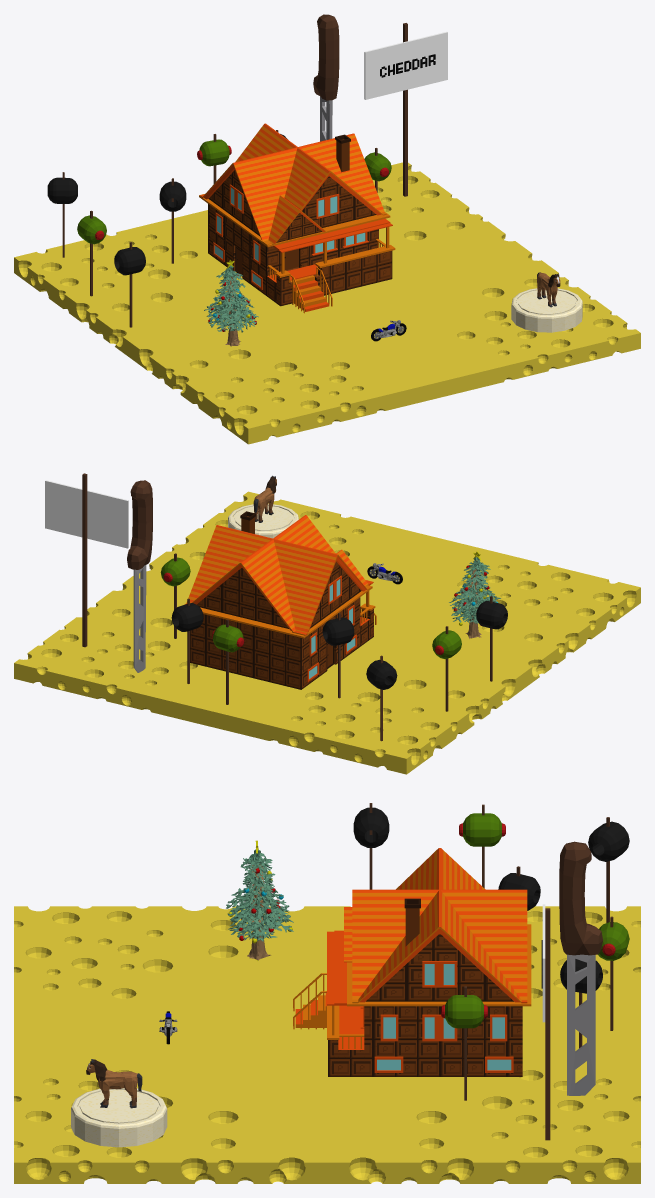
3 views of the same model, one above another, from view 1: azimuth 30°, elevation 25°; view 2: azimuth 150°, elevation 25°; view 3: azimuth 270°, elevation 25° (orthographic). The views are drawn at different scales.
Parts seen in each view (by area): view 1: Cube.022, Cube, Cube.023, Cylinder.016, Cube.024, OBJRANDOM_CHRISTMAS_TREE, Sphere.017, Sphere.016, Sphere.020, Sphere.018, Sphere.022, Sphere.019 (+1 smaller); view 2: Cube.022, Cube, Cube.023, Cube.024, OBJRANDOM_CHRISTMAS_TREE, Cylinder.016, Sphere.017, Sphere.020, Sphere.021, Sphere.016, Sphere.018, Sphere.022 (+3 smaller); view 3: Cube.022, Cube, Cube.024, Cylinder.016, OBJRANDOM_CHRISTMAS_TREE, Cube.023, Sphere.019, Sphere.016, Sphere.018, Sphere.017, ANIMAL_CABALLO, Sphere.022 (+2 smaller).
Part boxes in pixels (x1=…): Cube.022: x1=14, y1=162, x2=640, y2=444; Cube: x1=199, y1=123, x2=395, y2=313; Cube.023: x1=364, y1=23, x2=447, y2=196; Cylinder.016: x1=511, y1=288, x2=582, y2=332; Cube.024: x1=313, y1=14, x2=339, y2=141; OBJRANDOM_CHRISTMAS_TREE: x1=204, y1=260, x2=258, y2=346; Sphere.017: x1=114, y1=242, x2=145, y2=327; Sphere.016: x1=47, y1=172, x2=77, y2=257; Sphere.020: x1=159, y1=178, x2=186, y2=263; Sphere.018: x1=77, y1=210, x2=106, y2=296; Sphere.022: x1=197, y1=134, x2=231, y2=183; Sphere.019: x1=364, y1=148, x2=391, y2=192; Cube.022: x1=14, y1=491, x2=640, y2=774; Cube: x1=184, y1=511, x2=376, y2=689; Cube.023: x1=45, y1=473, x2=128, y2=647; Cube.024: x1=127, y1=480, x2=152, y2=672; OBJRANDOM_CHRISTMAS_TREE: x1=449, y1=551, x2=500, y2=638; Cylinder.016: x1=228, y1=503, x2=298, y2=538; Sphere.017: x1=476, y1=596, x2=507, y2=681; Sphere.020: x1=322, y1=612, x2=354, y2=698; Sphere.021: x1=171, y1=598, x2=203, y2=683; Sphere.016: x1=366, y1=655, x2=397, y2=741; Sphere.018: x1=432, y1=626, x2=461, y2=711; Sphere.022: x1=212, y1=619, x2=244, y2=704; Cube.022: x1=14, y1=906, x2=640, y2=1183; Cube: x1=293, y1=848, x2=531, y2=1076; Cube.024: x1=559, y1=841, x2=602, y2=1095; Cylinder.016: x1=71, y1=1088, x2=167, y2=1147; OBJRANDOM_CHRISTMAS_TREE: x1=226, y1=840, x2=293, y2=961; Cube.023: x1=541, y1=904, x2=550, y2=1140; Sphere.019: x1=441, y1=986, x2=487, y2=1100; Sphere.016: x1=588, y1=817, x2=629, y2=922; Sphere.018: x1=459, y1=804, x2=505, y2=888; Sphere.017: x1=353, y1=803, x2=389, y2=889; ANIMAL_CABALLO: x1=86, y1=1059, x2=142, y2=1108; Sphere.022: x1=598, y1=916, x2=629, y2=1030.
Size of the model in its own units: 3917 by 2108 by 4000.
Materials: 34 (4 with a texture image).
